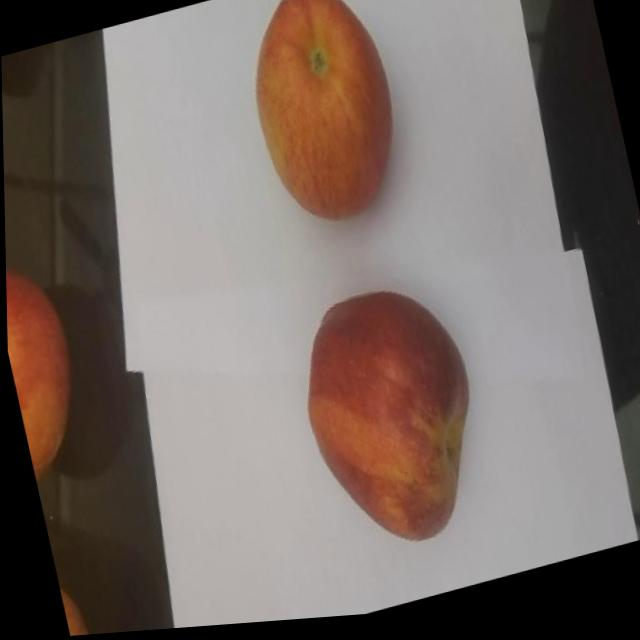Apple: (284, 271, 507, 569), (231, 0, 422, 260), (5, 257, 101, 480), (56, 582, 93, 637)
